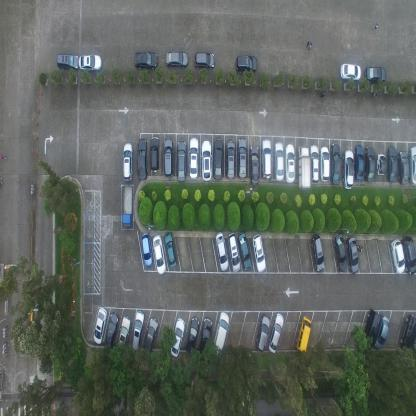car: (362, 308, 382, 352), (212, 310, 230, 358), (267, 312, 285, 354), (170, 316, 186, 358), (295, 315, 312, 354), (198, 316, 213, 360), (130, 310, 145, 354), (184, 315, 200, 356), (237, 229, 252, 271), (214, 230, 229, 272), (104, 310, 119, 352), (401, 235, 416, 276), (251, 232, 266, 273), (373, 315, 390, 351), (389, 237, 405, 275), (400, 313, 416, 351), (255, 314, 271, 352), (143, 316, 159, 354), (226, 231, 240, 273), (121, 184, 134, 229), (92, 306, 107, 345), (334, 232, 348, 273), (163, 231, 178, 269), (311, 232, 325, 272), (152, 234, 166, 274), (117, 315, 131, 354), (298, 144, 310, 189), (78, 52, 102, 74), (346, 235, 359, 275), (342, 147, 354, 190), (122, 140, 134, 182), (133, 50, 158, 70), (136, 136, 147, 181), (188, 136, 199, 180), (397, 149, 410, 186), (165, 50, 189, 70), (176, 139, 187, 182), (353, 143, 365, 182), (364, 64, 387, 84), (330, 141, 340, 187), (56, 51, 80, 70), (364, 145, 376, 183), (308, 143, 319, 184), (274, 140, 285, 181), (250, 143, 260, 187), (213, 138, 223, 182), (163, 135, 173, 179), (235, 54, 258, 73), (141, 231, 153, 267), (262, 137, 272, 180), (237, 137, 247, 180), (201, 139, 211, 182), (285, 142, 295, 184), (193, 51, 215, 70), (319, 144, 330, 182), (387, 145, 398, 182), (226, 140, 236, 180), (149, 136, 160, 172), (340, 62, 361, 80), (408, 145, 416, 188), (376, 152, 386, 177)
